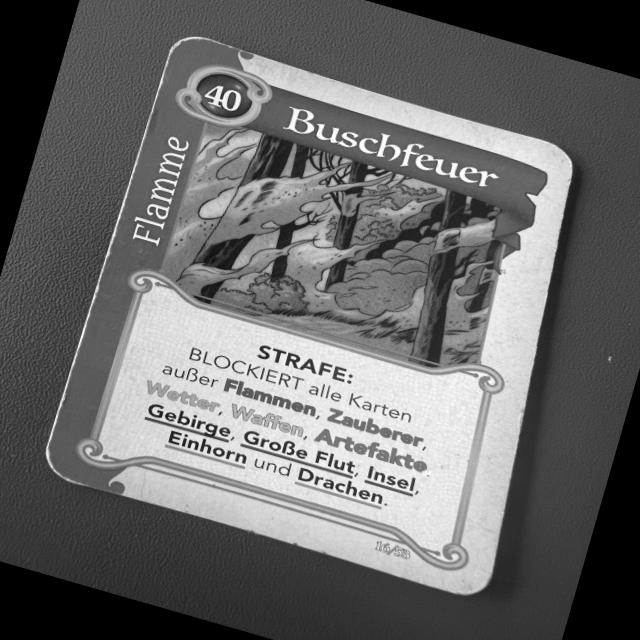Wildfire: (30, 22, 587, 616)
